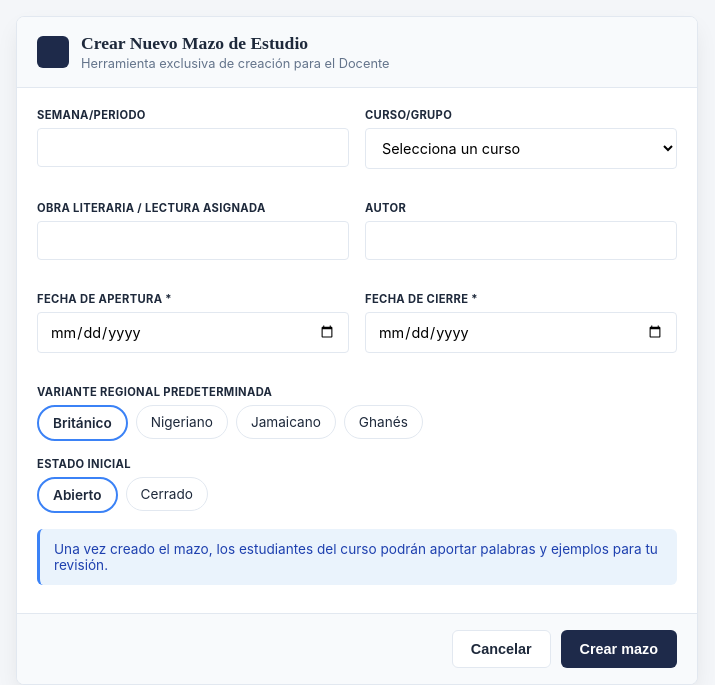
Test: CrearMazoForm › crea el mazo y muestra un mensaje de éxito cuando el formulario está completo
Select "Literatura Anglófona - Grupo 1" in the dropdown labelled "Curso/grupo" at (521, 148), box [365,128,677,169]
Type "3" into the field labelled "Semana/periodo" at (193, 148), box [37,128,349,167]
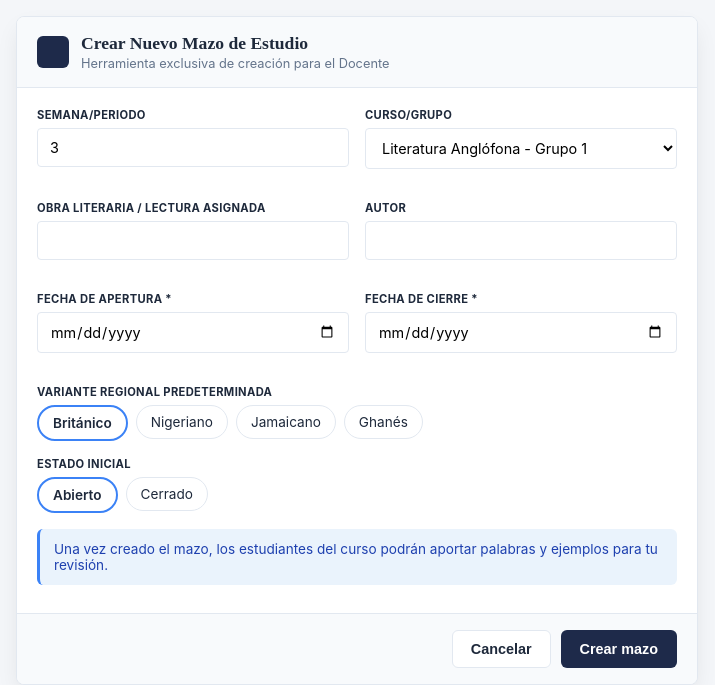
Type "Things Fall Apart" into the field labelled "Obra literaria / lectura asignada" at (193, 240), box [37,221,349,260]
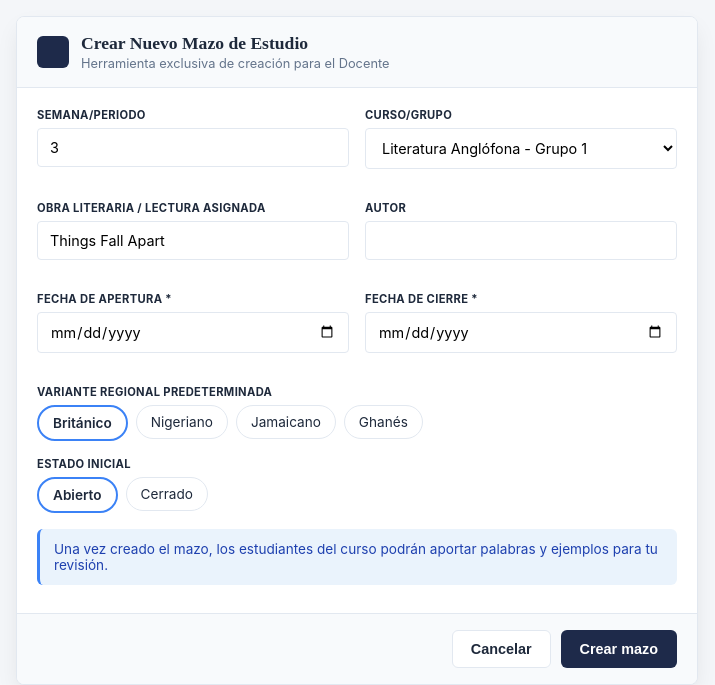
Type "Chinua Achebe" into the field labelled "Autor" at (521, 240), box [365,221,677,260]
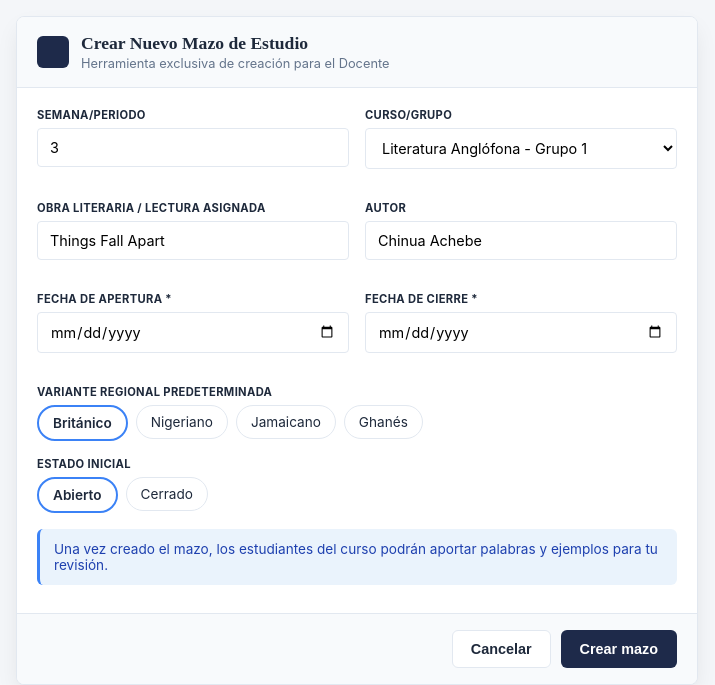
Type "2026-09-08" into the date field labelled "Fecha de apertura *" at (193, 332), box [37,312,349,353]
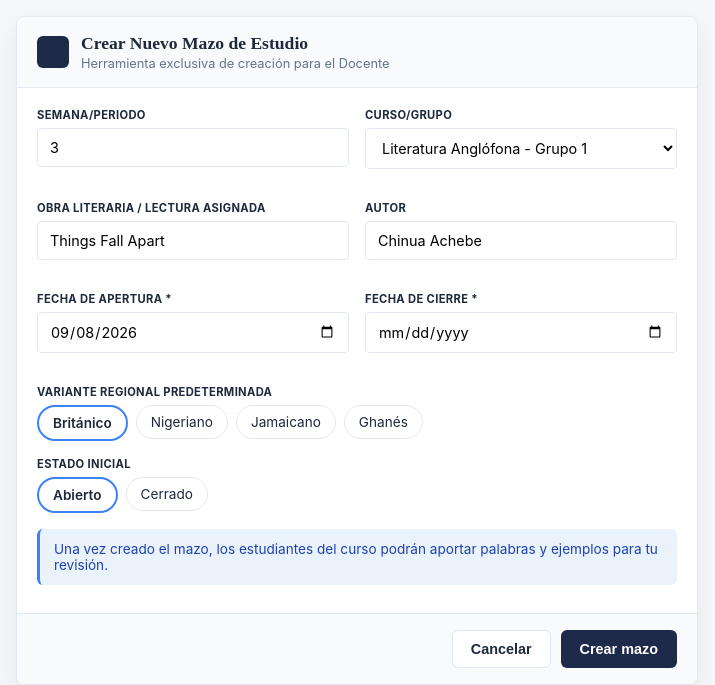
Type "2026-09-14" into the date field labelled "Fecha de cierre *" at (521, 332), box [365,312,677,353]
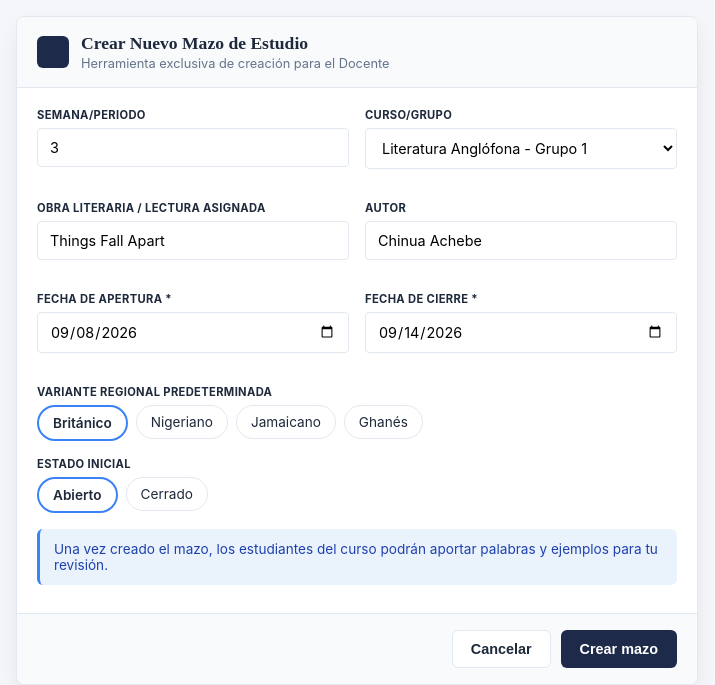
Click the button "Crear mazo" at (619, 649), box [561,630,677,668]
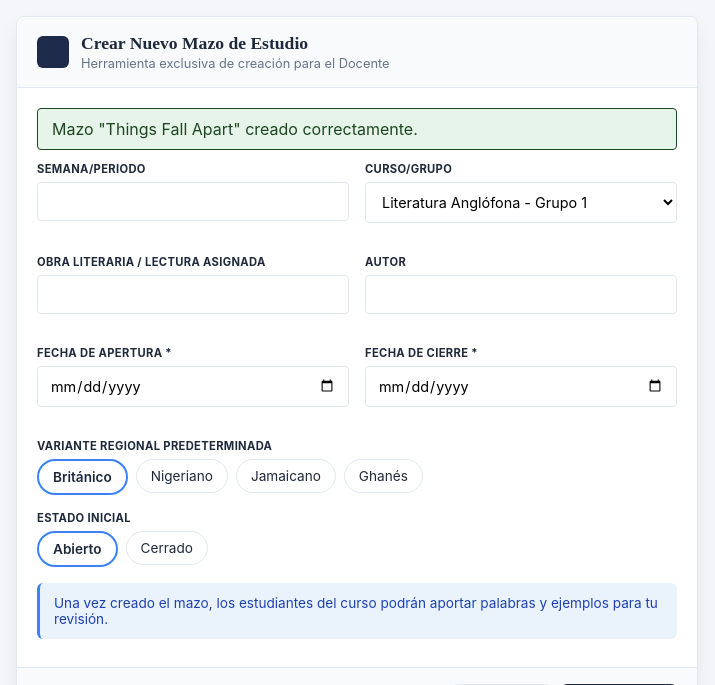
Result: the message shows "creado correctamente" at [52,119,418,139]
